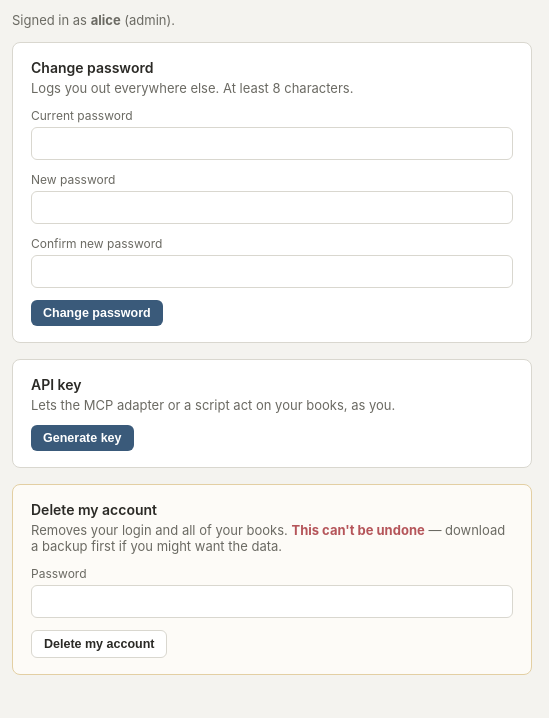
Scenario: keeps the account and explains when deletion is refused
Type "password1" into the password field labelled "Password" at (272, 602), box [31,585,513,618]
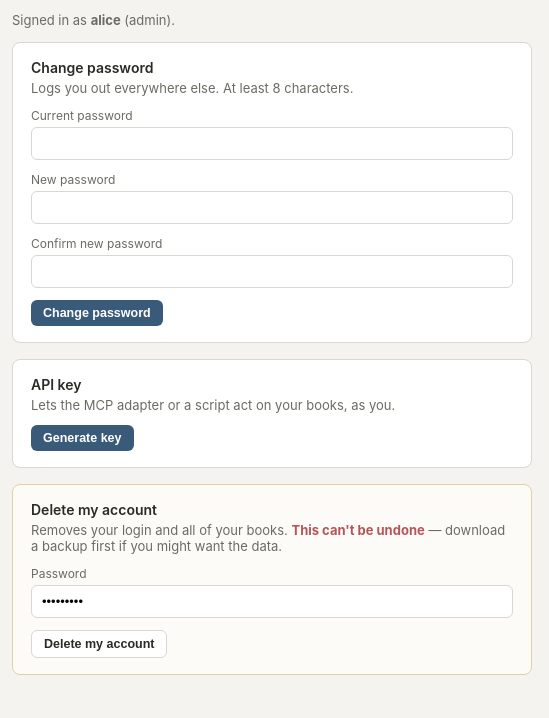
Click the button "Delete my account" at (99, 644), box [31,630,168,658]
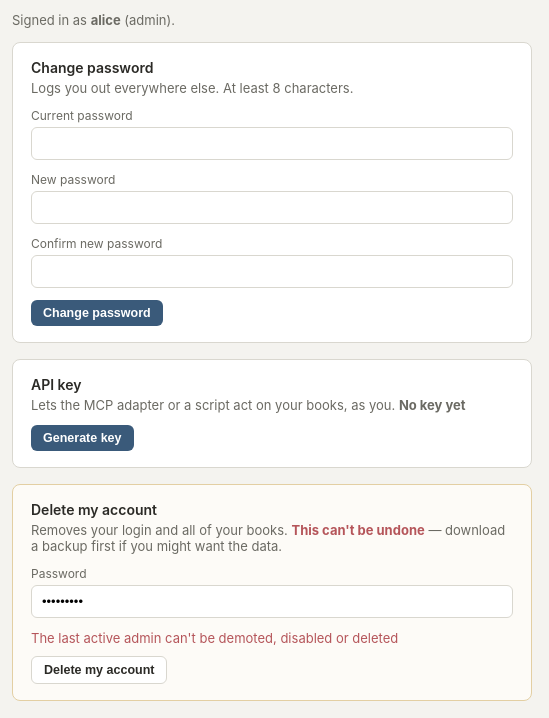
Result: the text "The last active admin can't be demoted, disabled or deleted" is shown at [31,630,398,646]
